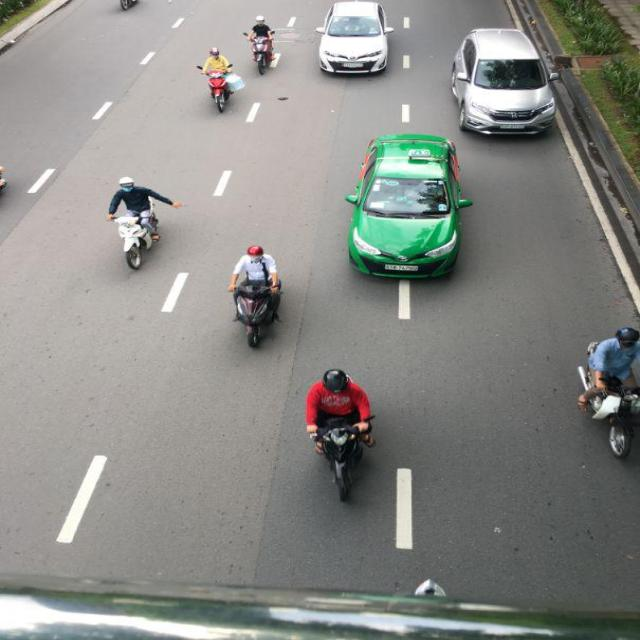car: (344, 134, 467, 280), (450, 25, 560, 138), (318, 2, 394, 78)
motorcycle: (575, 358, 639, 458), (312, 419, 368, 499), (233, 280, 281, 350), (118, 213, 156, 271), (202, 70, 242, 114), (244, 24, 276, 76)
